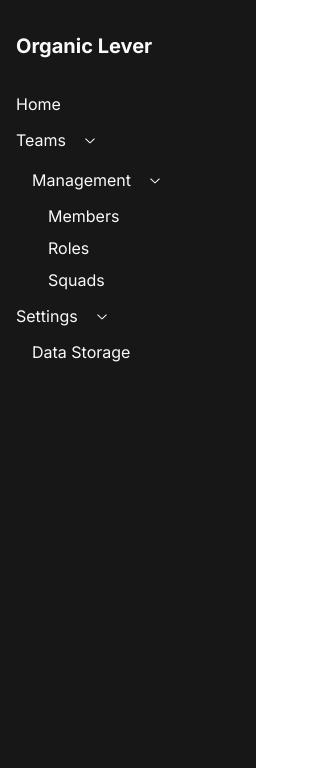
Test: Navigation component › expands and collapses submenu items
Expected: the link "Management" is shown, [32,168,131,192]
// Click the Teams button to collapse
Click the button without text next to "Teams" at (90, 140), box [74,124,106,156]
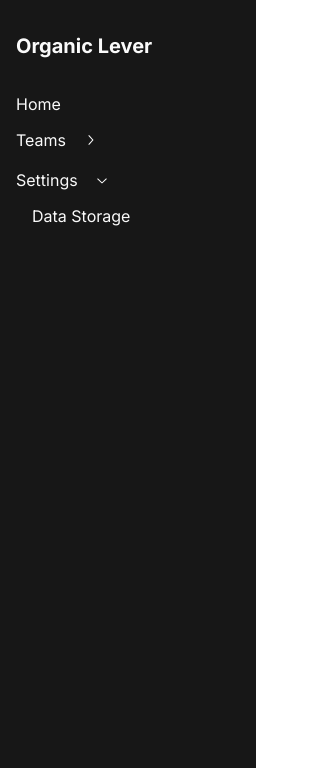
Now the link "Management" is gone
// Click the Teams button again to expand
Click the button without text next to "Teams" at (90, 140), box [74,124,106,156]
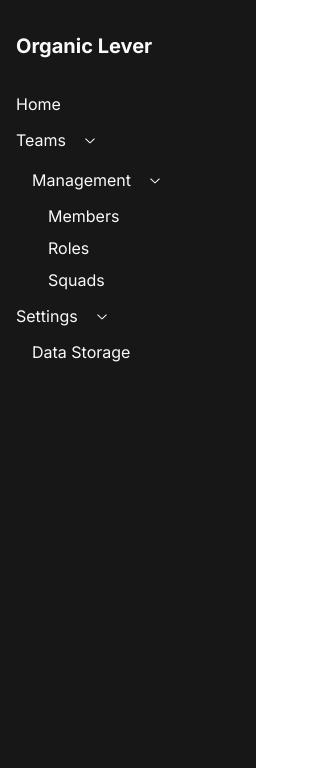
Now the link "Management" is shown, box [32,168,131,192]
